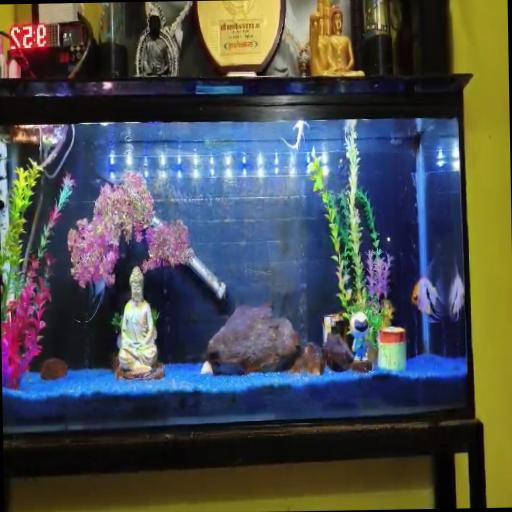Fish: (410, 277, 440, 322), (75, 280, 105, 324), (447, 265, 464, 321), (280, 121, 309, 151)
